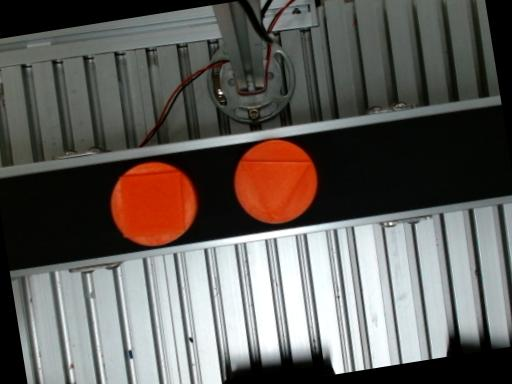Not_Square: (239, 161, 311, 224)
Orange_Waper: (110, 162, 197, 246), (233, 140, 316, 223)
Square: (119, 170, 185, 238)
